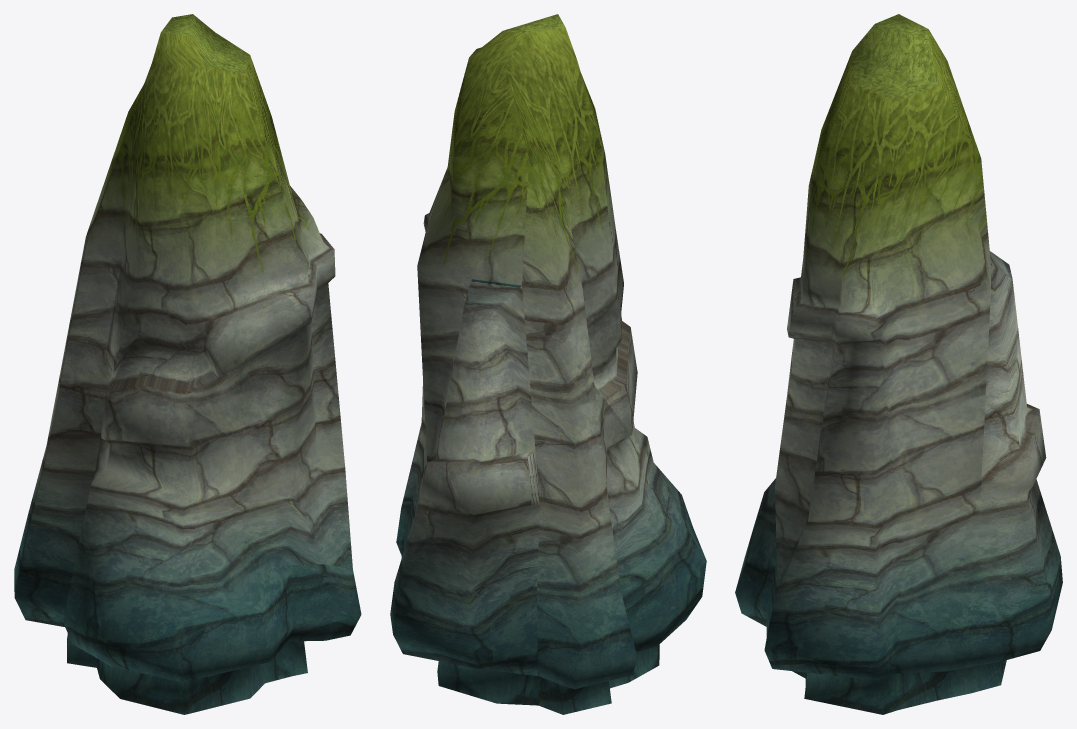
File: beach spike rock.FBX
3 views of the same model, side by side, from view 1: azimuth 30°, elevation 25°; view 2: azimuth 150°, elevation 25°; view 3: azimuth 270°, elevation 25° (orthographic).
Parts seen in each view (by area): view 1: beach spike rock; view 2: beach spike rock; view 3: beach spike rock.
Part boxes in pixels (x1,y1,x2,y2): beach spike rock: [14, 14, 361, 714]; beach spike rock: [390, 14, 706, 714]; beach spike rock: [735, 14, 1062, 714].
Bounding box in the file's own units: 10.68 × 22.53 × 10.52.
